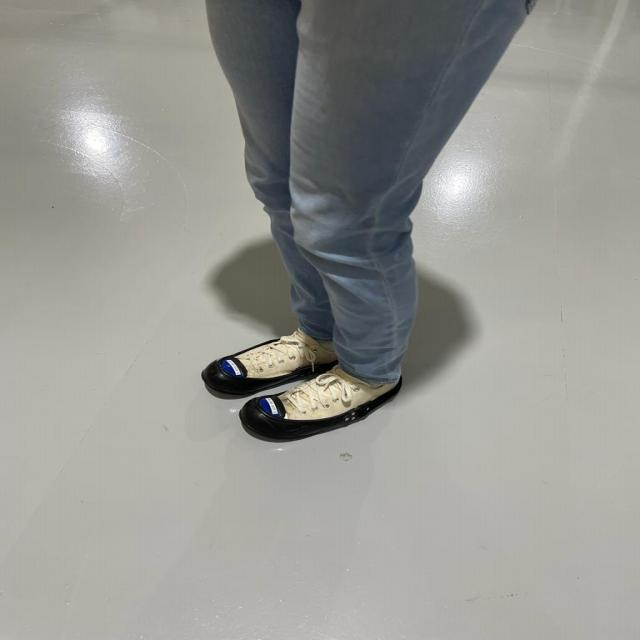shoes: (236, 366, 422, 448), (200, 317, 336, 388)
